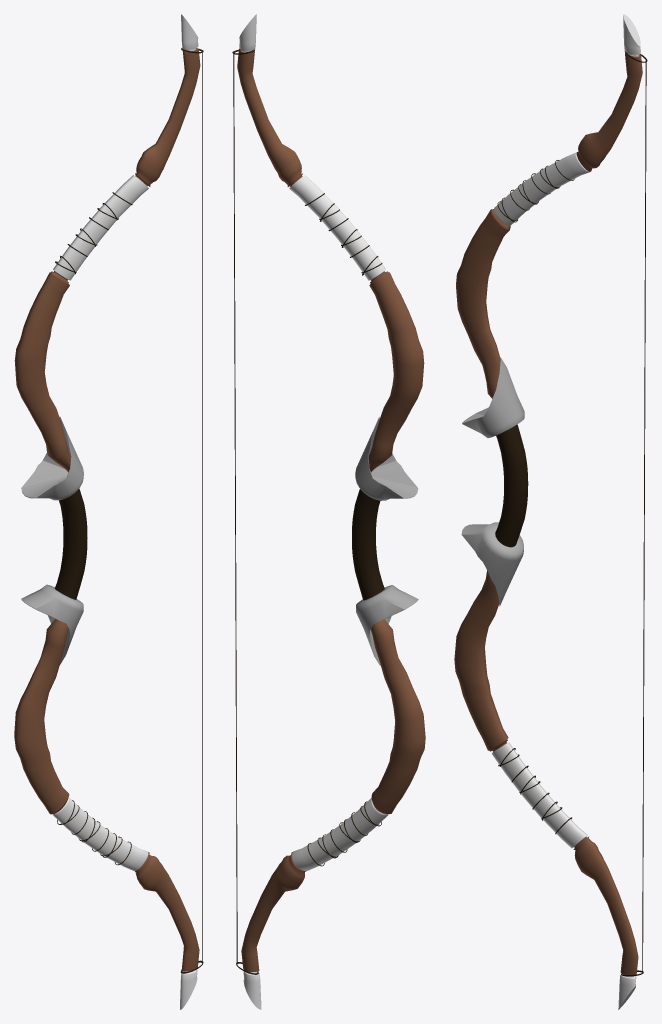
The model's file is Bow.fbx.
3 renders of one model, left to right at view 1: azimuth 30°, elevation 25°; view 2: azimuth 150°, elevation 25°; view 3: azimuth 330°, elevation 25°, orthographic.
Visible parts, largest first — view 1: Bow, Thread, Holder; view 2: Bow, Thread, Holder; view 3: Bow, Thread, Holder.
Boxes of the visible parts, left/top/right/bottom form: Bow: left=14, top=14, right=200, bottom=1009; Thread: left=181, top=48, right=203, bottom=973; Holder: left=55, top=192, right=132, bottom=865; Bow: left=237, top=14, right=425, bottom=1009; Thread: left=232, top=49, right=258, bottom=974; Holder: left=305, top=193, right=382, bottom=866; Bow: left=454, top=14, right=642, bottom=1009; Thread: left=621, top=51, right=647, bottom=976; Holder: left=497, top=160, right=574, bottom=834.
Size of the model in its own units: 22.89 by 115 by 5.09.
